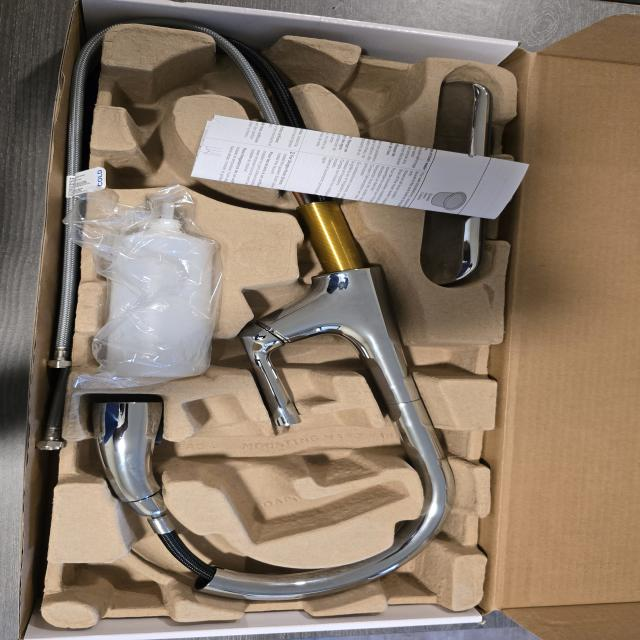1o: (93, 32, 457, 604)
2m: (180, 394, 409, 542)
3: (103, 201, 215, 377)
4o: (421, 80, 486, 287)
5m: (346, 76, 411, 123)
6m: (109, 57, 211, 125)
7m: (110, 133, 236, 201)
8: (189, 115, 530, 220)
